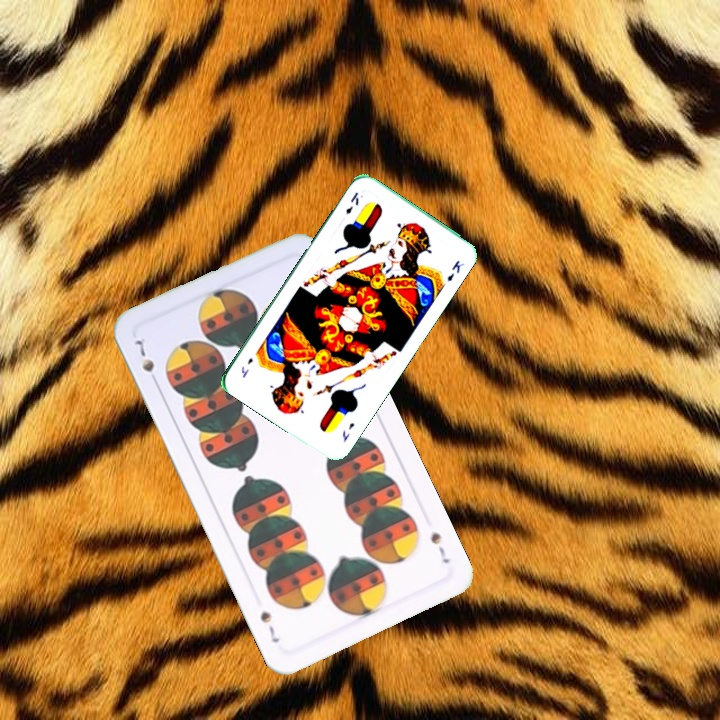EK: (341, 188, 361, 217), (338, 418, 357, 444)
S7: (132, 332, 161, 389), (426, 528, 453, 566)
